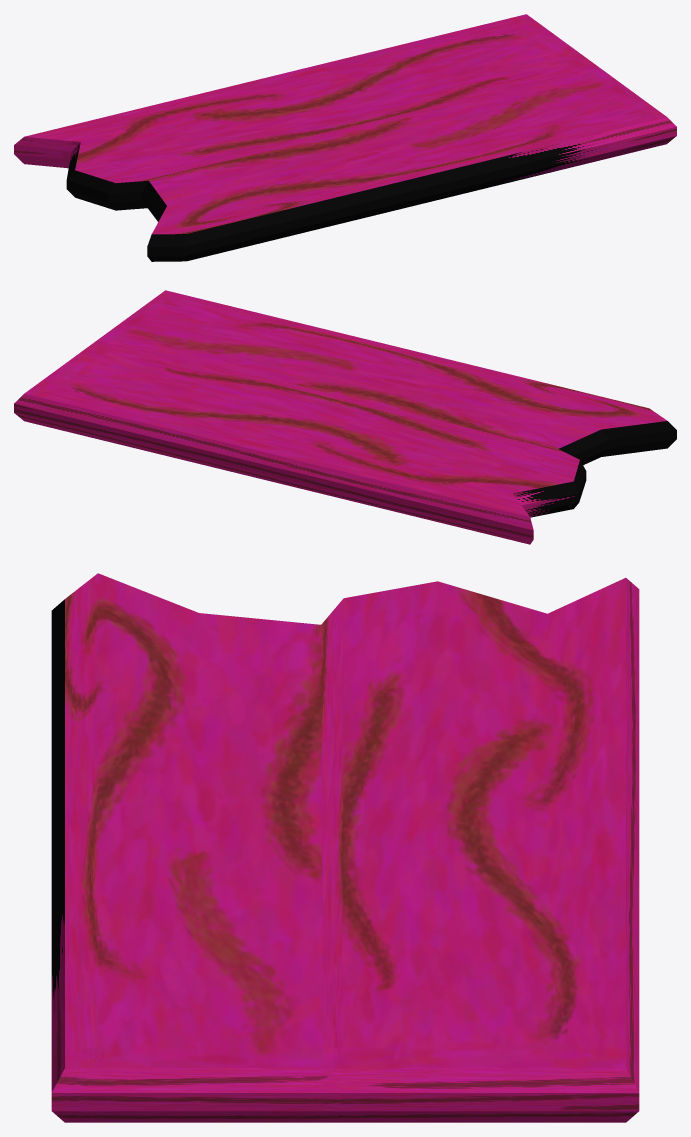
File: Tablas2.fbx
The picture shows the model from 3 angles, top to bottom: view 1: azimuth 30°, elevation 25°; view 2: azimuth 150°, elevation 25°; view 3: azimuth 270°, elevation 25°; orthographic projection. The views are drawn at different scales.
Visible parts, largest first — view 1: Cube.001; view 2: Cube.001; view 3: Cube.001.
Boxes of the visible parts, x1,y1,x2,y2 form: Cube.001: [14, 14, 676, 261]; Cube.001: [14, 290, 676, 544]; Cube.001: [51, 573, 639, 1122].
Bounding box in the file's own units: 586 × 29.48 × 286.
Materials: 1 (1 with a texture image).
